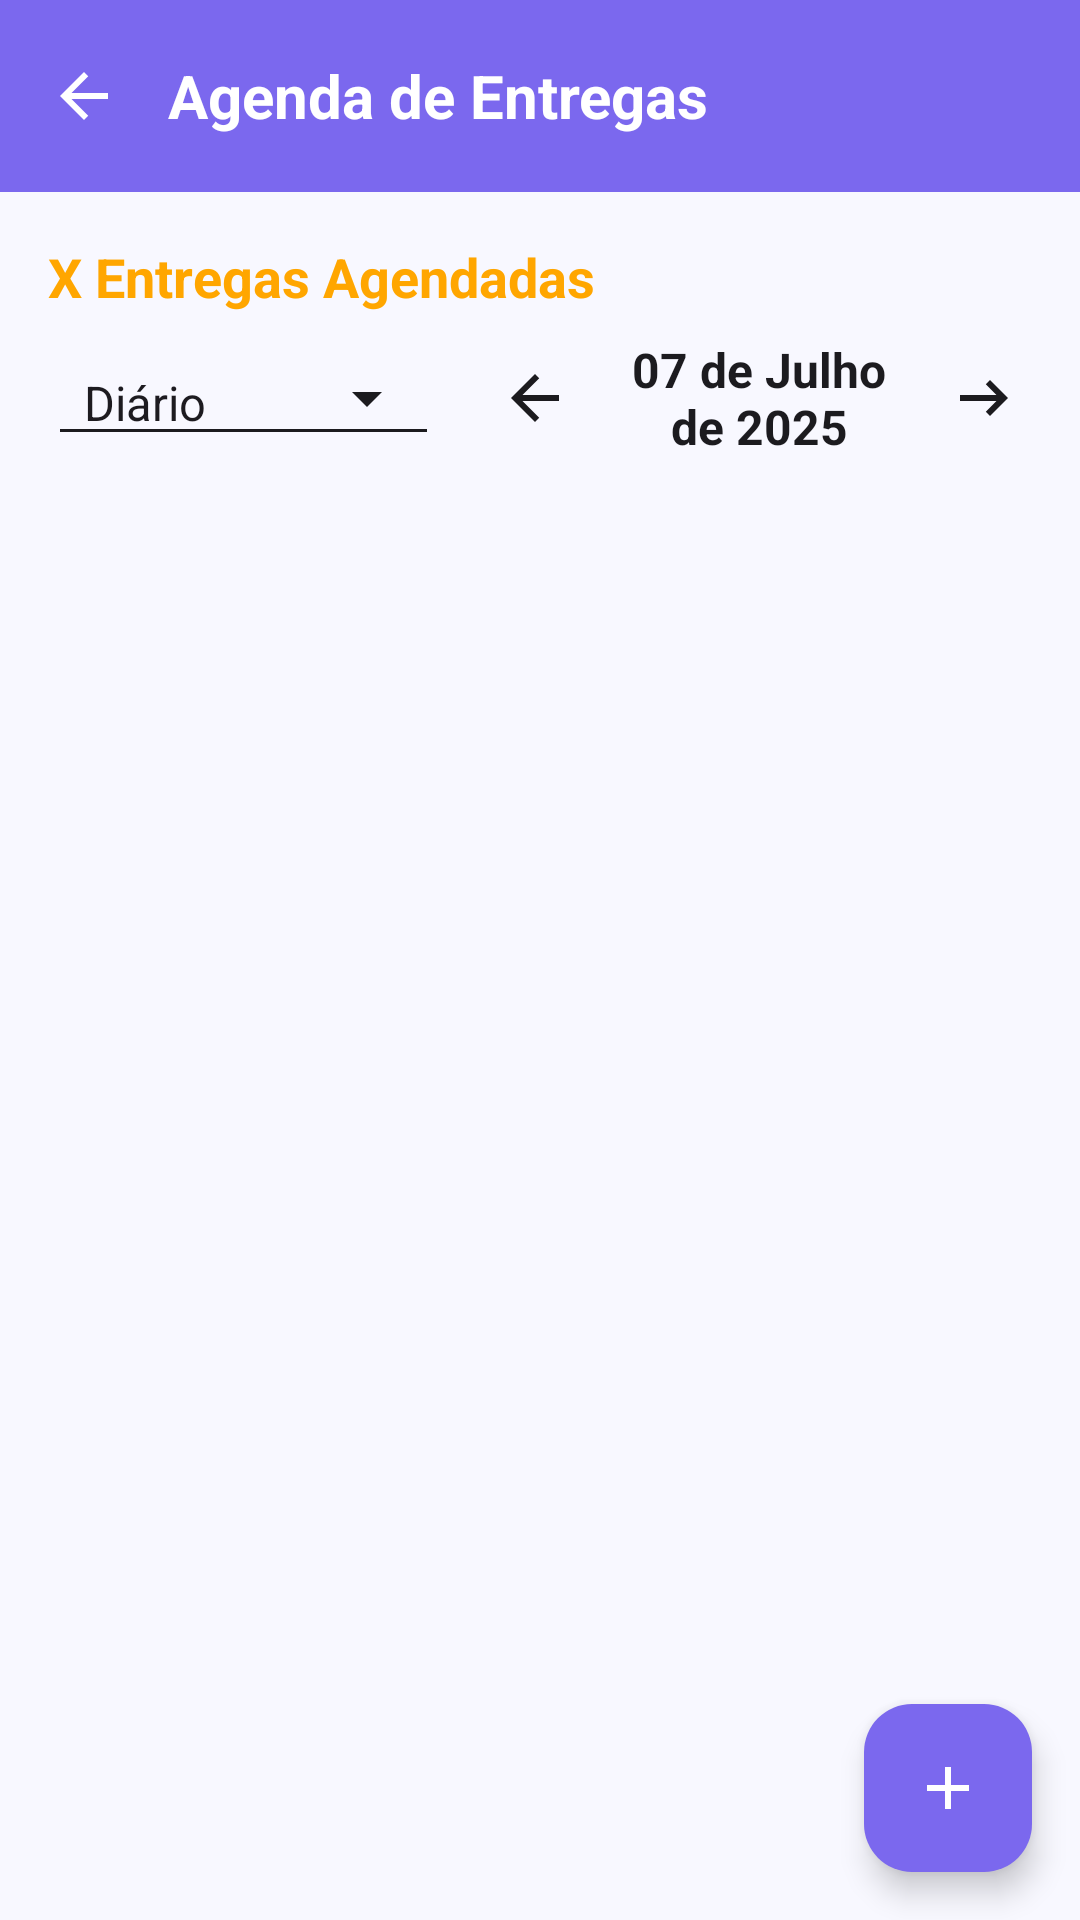

Icons on this 1080w x 1920h Android screen, each with its box as (left=x1, top=y1, right=x2, bottom=y2):
Adicionar Nova Entrega: (left=864, top=1704, right=1032, bottom=1872)
Período Anterior: (left=511, top=374, right=559, bottom=422)
Próximo Período: (left=960, top=380, right=1008, bottom=416)
Voltar: (left=60, top=72, right=108, bottom=120)
